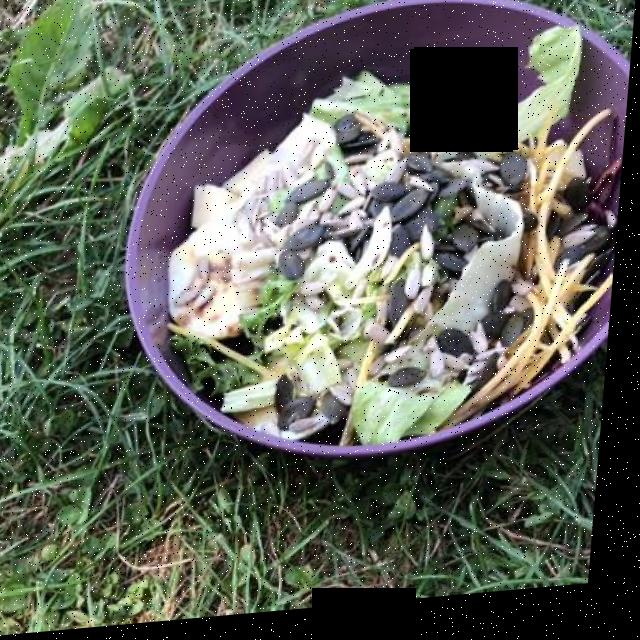mixed-salad-chopped-without-sauce: (165, 56, 586, 433)
mixed-seeds: (228, 101, 575, 399)
salad-dressing: (188, 104, 589, 428)
